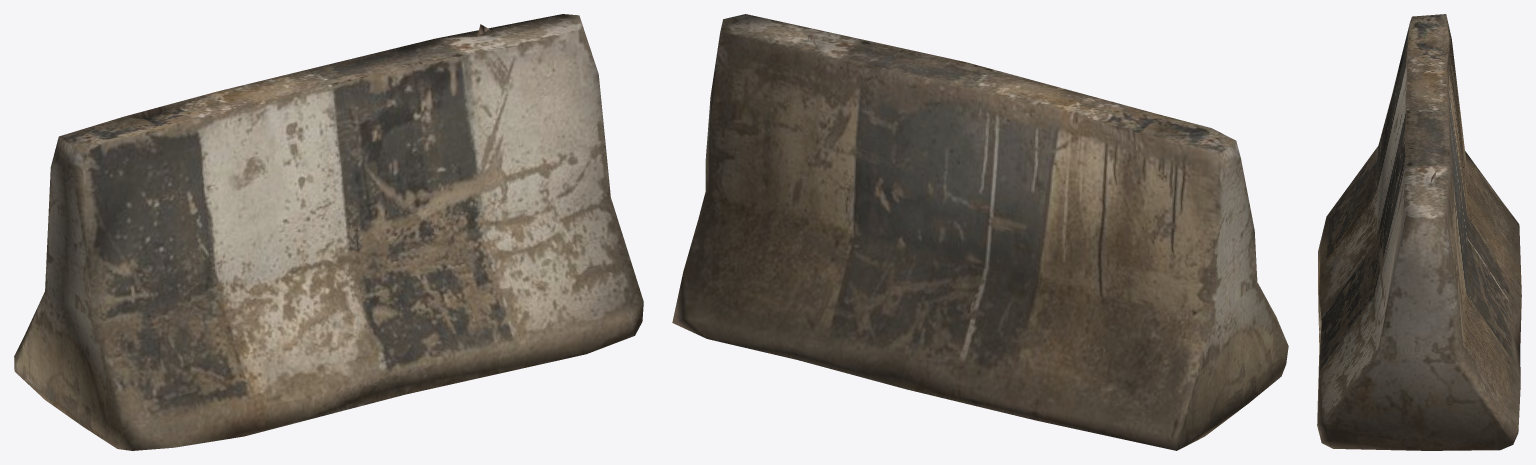
The model's file is concrete_road_barrier.glb.
3 renders of one model, left to right at view 1: azimuth 30°, elevation 25°; view 2: azimuth 150°, elevation 25°; view 3: azimuth 270°, elevation 25°, orthographic. The views are drawn at different scales.
Visible parts, largest first — view 1: concrete_road_barrier; view 2: concrete_road_barrier; view 3: concrete_road_barrier.
Boxes of the visible parts, x1,y1,x2,y2 form: concrete_road_barrier: (14, 14, 643, 450); concrete_road_barrier: (672, 14, 1288, 450); concrete_road_barrier: (1317, 14, 1521, 450).
Bounding box in the file's own units: 1.54 × 0.8276 × 0.627.
Materials: 1 (1 with a texture image).
